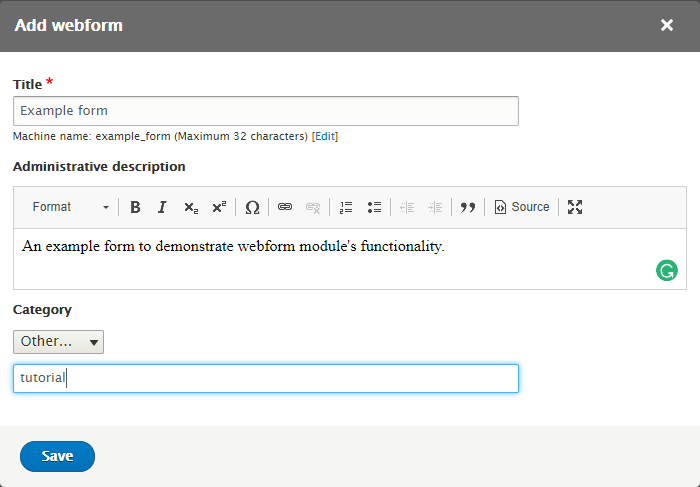_form_: (4, 71, 526, 487)
button: (20, 440, 95, 474)
field: (12, 94, 520, 128), (11, 363, 521, 396)
field_with_label: (10, 77, 523, 130)
select: (11, 329, 106, 356)
